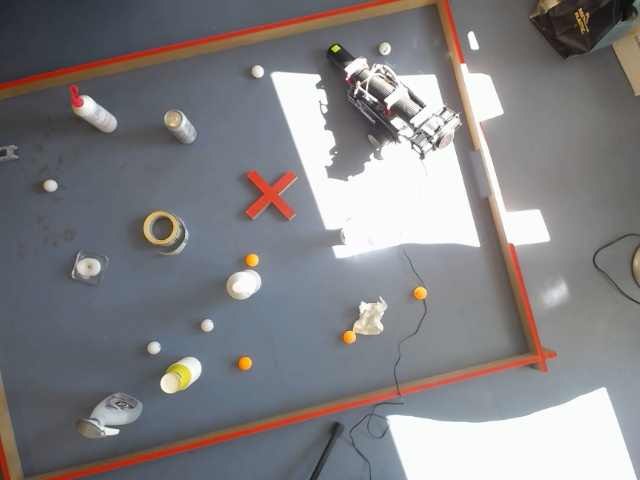orange: (237, 355, 253, 372), (412, 285, 428, 301), (244, 253, 260, 268), (341, 330, 356, 345)
white: (386, 0, 577, 49), (159, 359, 201, 394), (225, 269, 263, 302), (159, 364, 192, 395), (175, 356, 203, 385), (159, 368, 184, 395), (41, 178, 60, 195), (198, 317, 215, 334), (145, 340, 162, 356)
